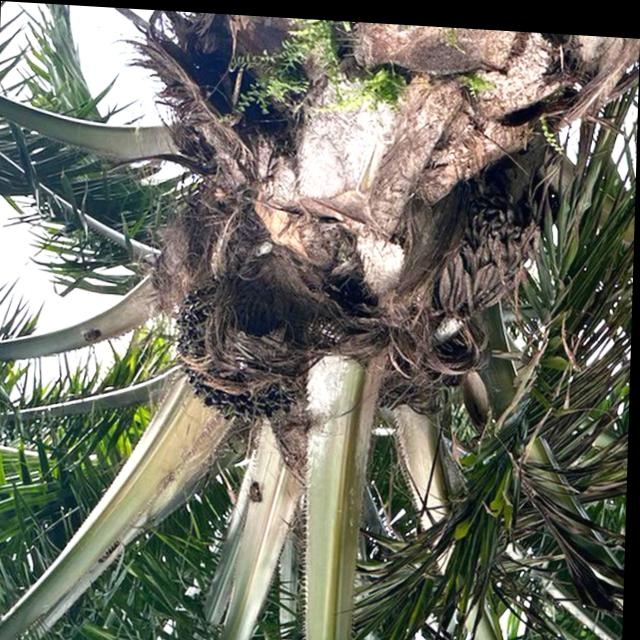unripe: (165, 264, 317, 431)
